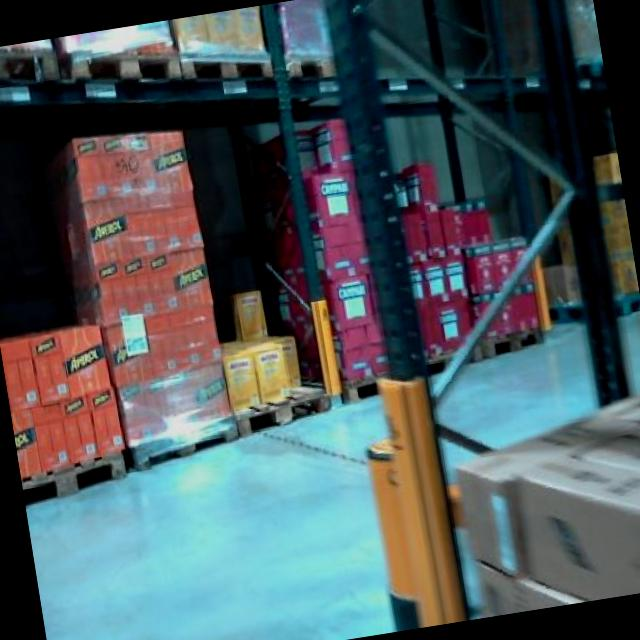pallet: (238, 375, 328, 438), (173, 48, 284, 92)
